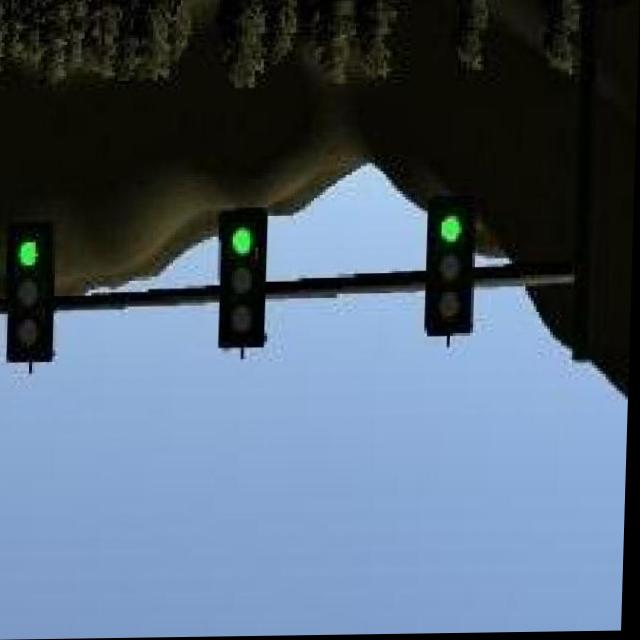green light: (423, 197, 478, 335), (221, 205, 270, 348), (12, 225, 58, 363)
